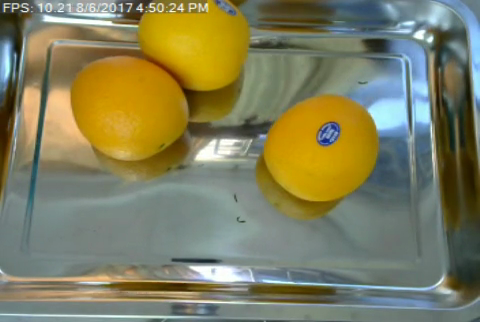Orange: (262, 94, 379, 200), (70, 56, 189, 160), (136, 1, 250, 88)
